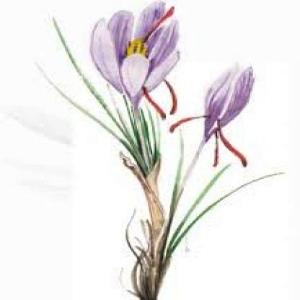Saffron: (93, 3, 180, 110), (202, 66, 256, 146)
